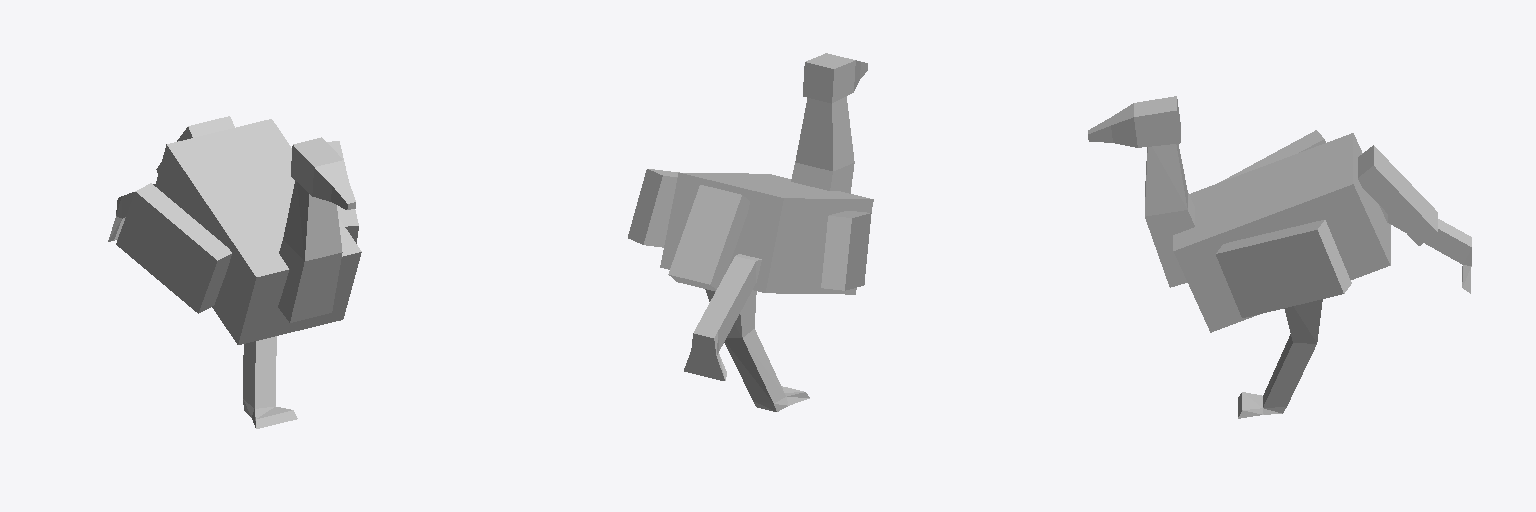
Rendered from Ostrich_000077.obj.
3 views of the same model, side by side, from view 1: azimuth 30°, elevation 25°; view 2: azimuth 150°, elevation 25°; view 3: azimuth 270°, elevation 25° (orthographic).
Parts seen in each view (by area): view 1: Cube_Cube.001; view 2: Cube_Cube.001; view 3: Cube_Cube.001.
Part boxes in pixels (bbox=[...]): Cube_Cube.001: bbox=[108, 116, 361, 428]; Cube_Cube.001: bbox=[628, 53, 873, 411]; Cube_Cube.001: bbox=[1088, 96, 1471, 418].
Bounding box in the file's own units: 1.03 × 1.38 × 1.58.